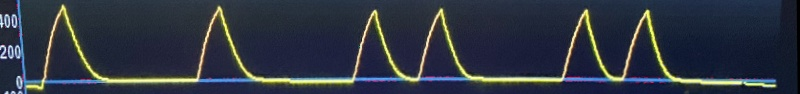normal_volume: (34, 0, 734, 93)
